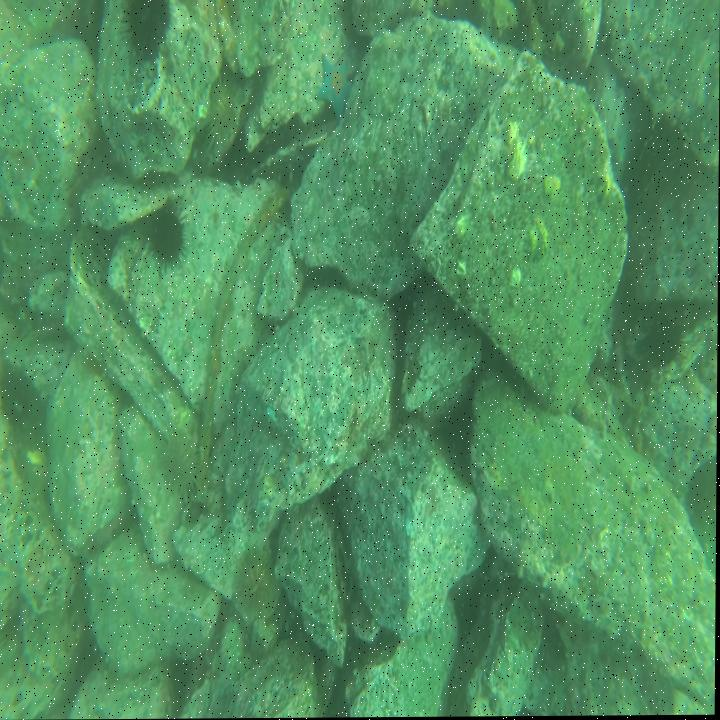echinus: (201, 77, 239, 155), (160, 429, 200, 502), (240, 545, 277, 620), (126, 1, 169, 60), (147, 205, 184, 267), (648, 318, 686, 373), (0, 372, 30, 429)
starfish: (316, 51, 354, 117)
